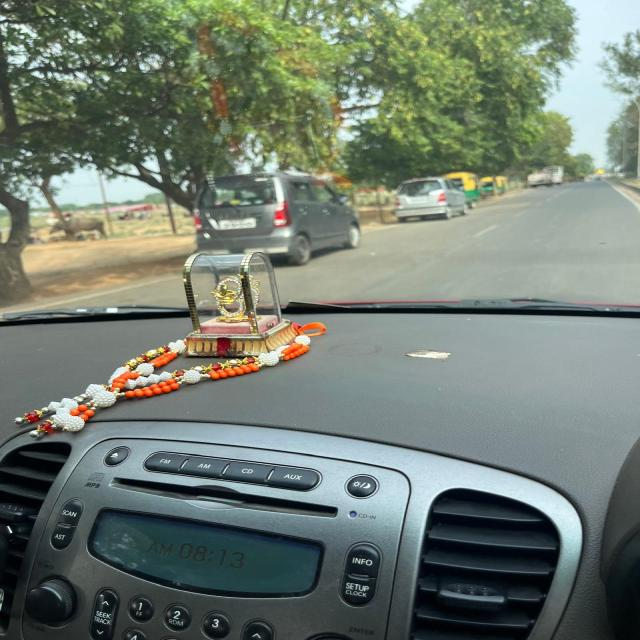car: (187, 170, 375, 268), (390, 178, 470, 224)
